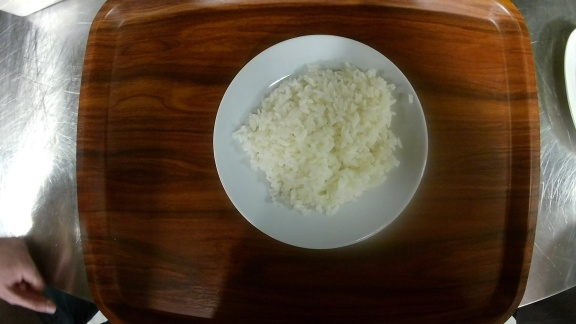pilav: (212, 34, 431, 249)
